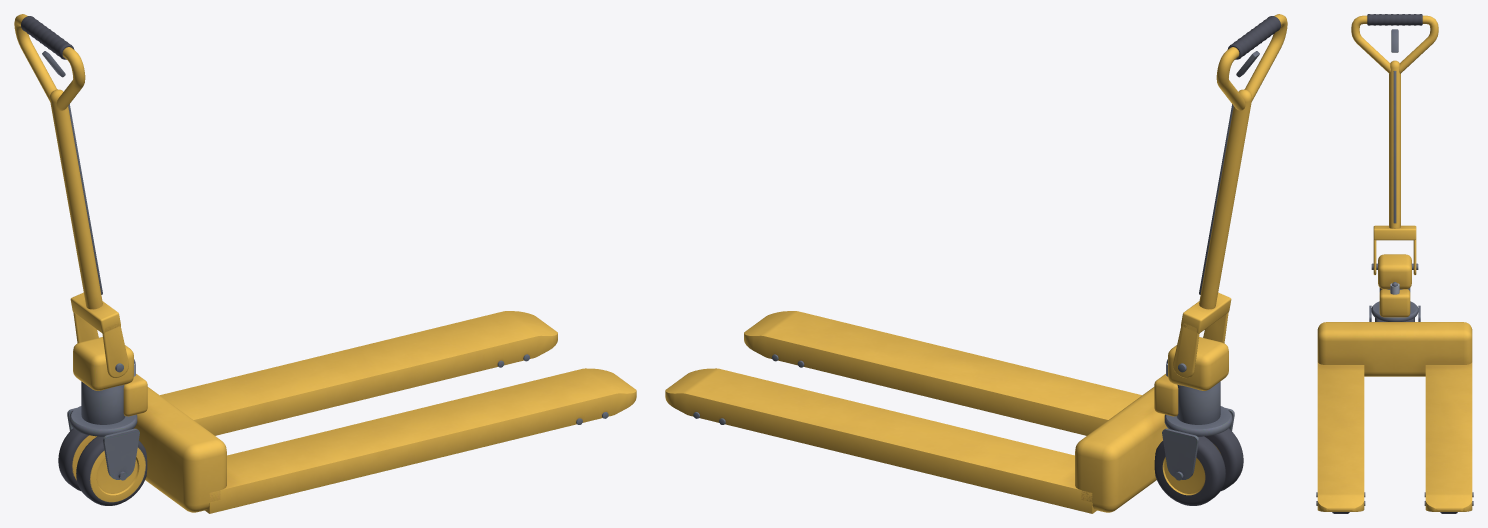
The model's file is pallet-jack.glb.
3 renders of one model, left to right at view 1: azimuth 30°, elevation 25°; view 2: azimuth 150°, elevation 25°; view 3: azimuth 270°, elevation 25°, orthographic. The views are drawn at different scales.
Visible parts, largest first — view 1: pallet-jack_body, pallet-jack_drawbar, pallet-jack_steer_wheels; view 2: pallet-jack_body, pallet-jack_drawbar, pallet-jack_steer_wheels; view 3: pallet-jack_body, pallet-jack_drawbar.
Boxes of the visible parts, x1,y1,x2,y2 form: pallet-jack_body: [67, 311, 636, 513]; pallet-jack_drawbar: [14, 14, 128, 377]; pallet-jack_steer_wheels: [58, 428, 147, 505]; pallet-jack_body: [665, 311, 1234, 513]; pallet-jack_drawbar: [1173, 14, 1287, 377]; pallet-jack_steer_wheels: [1154, 428, 1243, 505]; pallet-jack_body: [1316, 254, 1473, 513]; pallet-jack_drawbar: [1351, 14, 1438, 274].
Size of the model in its own units: 1.49 by 1.25 by 0.538.
Materials: 3 (3 with a texture image).
